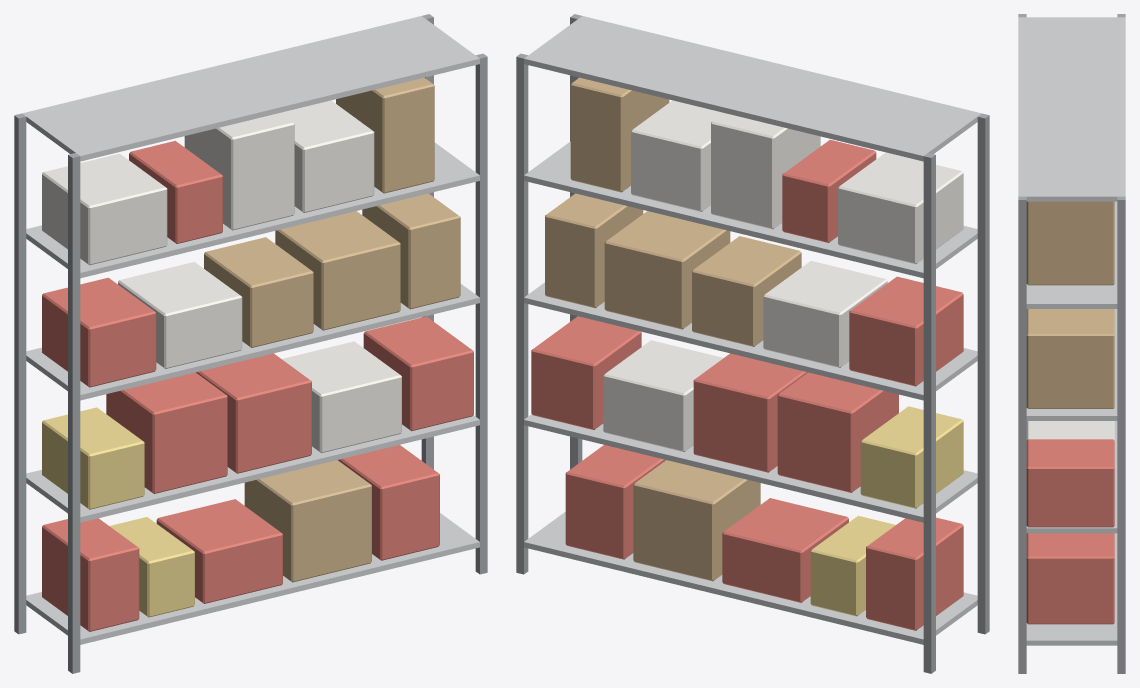
File: shelves.glb
The picture shows the model from 3 angles, left to right: view 1: azimuth 30°, elevation 25°; view 2: azimuth 150°, elevation 25°; view 3: azimuth 270°, elevation 25°; orthographic projection. The views are drawn at different scales.
Parts seen in each view (by area): view 1: shelves_food_r, shelves_metal, shelves_basket, shelves_paper, shelves_steel, shelves_cart_w, shelves_food_y; view 2: shelves_food_r, shelves_metal, shelves_basket, shelves_paper, shelves_steel, shelves_cart_w, shelves_food_y; view 3: shelves_metal, shelves_basket, shelves_food_r, shelves_steel, shelves_paper.
Part boxes in pixels (x1=…): shelves_food_r: x1=42, y1=140, x2=473, y2=631; shelves_metal: x1=22, y1=16, x2=479, y2=644; shelves_basket: x1=204, y1=77, x2=460, y2=582; shelves_paper: x1=42, y1=113, x2=401, y2=452; shelves_steel: x1=14, y1=14, x2=487, y2=673; shelves_cart_w: x1=118, y1=100, x2=374, y2=368; shelves_food_y: x1=42, y1=407, x2=194, y2=617; shelves_food_r: x1=531, y1=139, x2=963, y2=630; shelves_metal: x1=524, y1=16, x2=981, y2=644; shelves_basket: x1=545, y1=77, x2=801, y2=581; shelves_paper: x1=603, y1=113, x2=963, y2=451; shelves_steel: x1=516, y1=14, x2=989, y2=673; shelves_cart_w: x1=631, y1=100, x2=887, y2=367; shelves_food_y: x1=810, y1=406, x2=963, y2=616; shelves_metal: x1=1018, y1=17, x2=1125, y2=645; shelves_basket: x1=1026, y1=201, x2=1114, y2=408; shelves_food_r: x1=1026, y1=439, x2=1114, y2=624; shelves_steel: x1=1018, y1=14, x2=1125, y2=673; shelves_paper: x1=1026, y1=421, x2=1114, y2=440.
Bounding box in the file's own units: 1.6 × 1.9 × 0.39.
